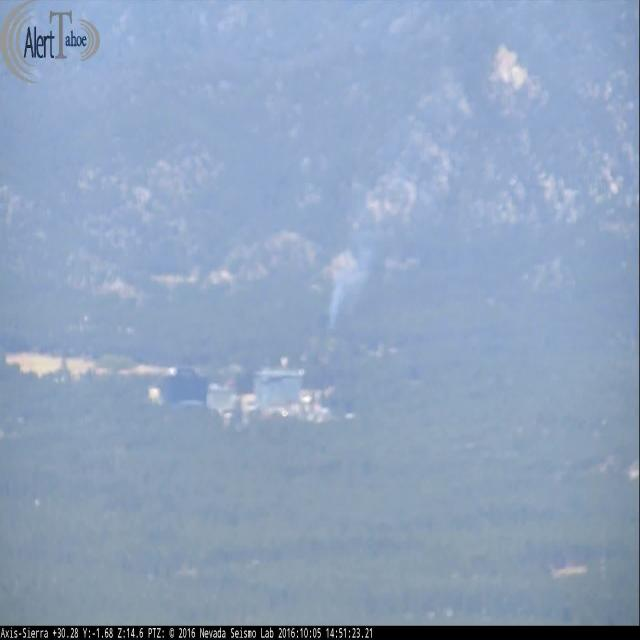smoke: (326, 223, 383, 333)
